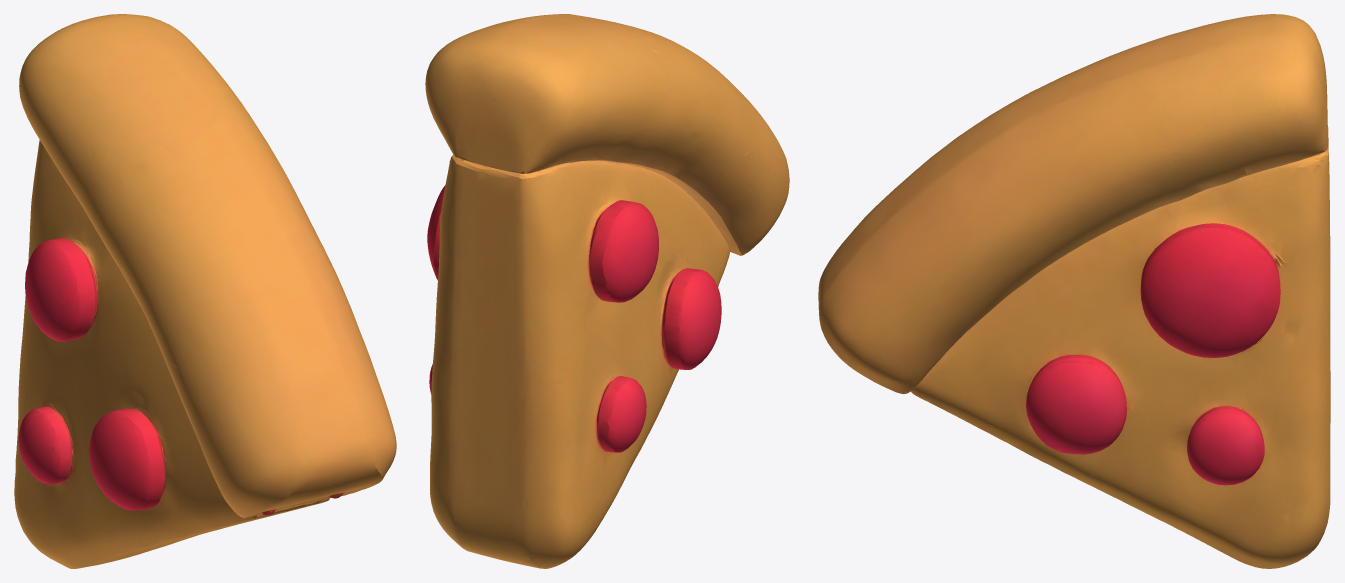
The model's file is pizza.glb.
3 views of the same model, side by side, from view 1: azimuth 30°, elevation 25°; view 2: azimuth 150°, elevation 25°; view 3: azimuth 270°, elevation 25° (orthographic). The views are drawn at different scales.
Visible parts, largest first — view 1: model; view 2: model; view 3: model.
Boxes of the visible parts, left/top/right/bottom form: model: left=14, top=14, right=396, bottom=568; model: left=425, top=14, right=789, bottom=568; model: left=818, top=14, right=1330, bottom=568.
Bounding box in the file's own units: 0.4157 × 1 × 0.8848.
1 material, 1 textured.
